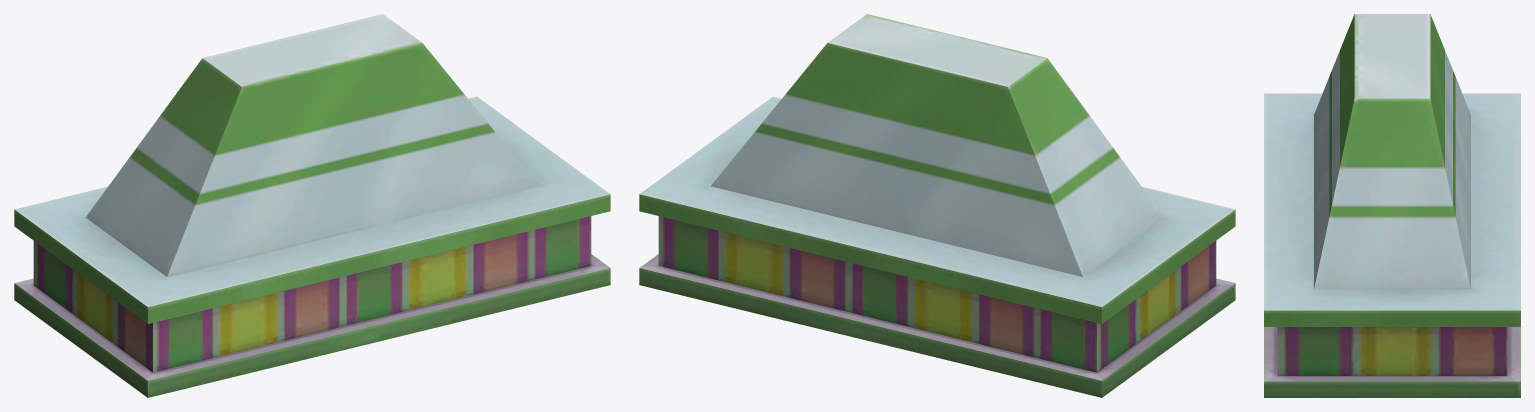
File: furni_0200619_02.FBX
The picture shows the model from 3 angles, left to right: view 1: azimuth 30°, elevation 25°; view 2: azimuth 150°, elevation 25°; view 3: azimuth 270°, elevation 25°; orthographic projection. The views are drawn at different scales.
Parts seen in each view (by area): view 1: furni_0200619_02; view 2: furni_0200619_02; view 3: furni_0200619_02.
Boxes of the visible parts, <box> form: furni_0200619_02: <box>14,14,610,397</box>; furni_0200619_02: <box>639,14,1235,397</box>; furni_0200619_02: <box>1264,14,1520,397</box>.
Bounding box in the file's own units: 160 × 80.03 × 80.
Materials: 1 (1 with a texture image).
